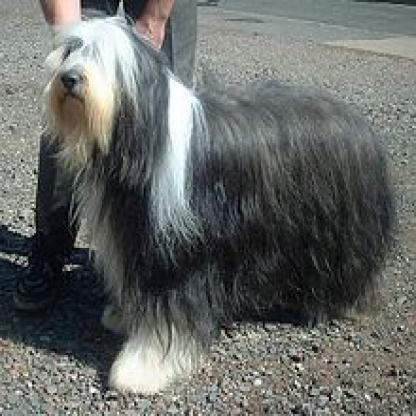Bearded Collie: (36, 14, 398, 374)
